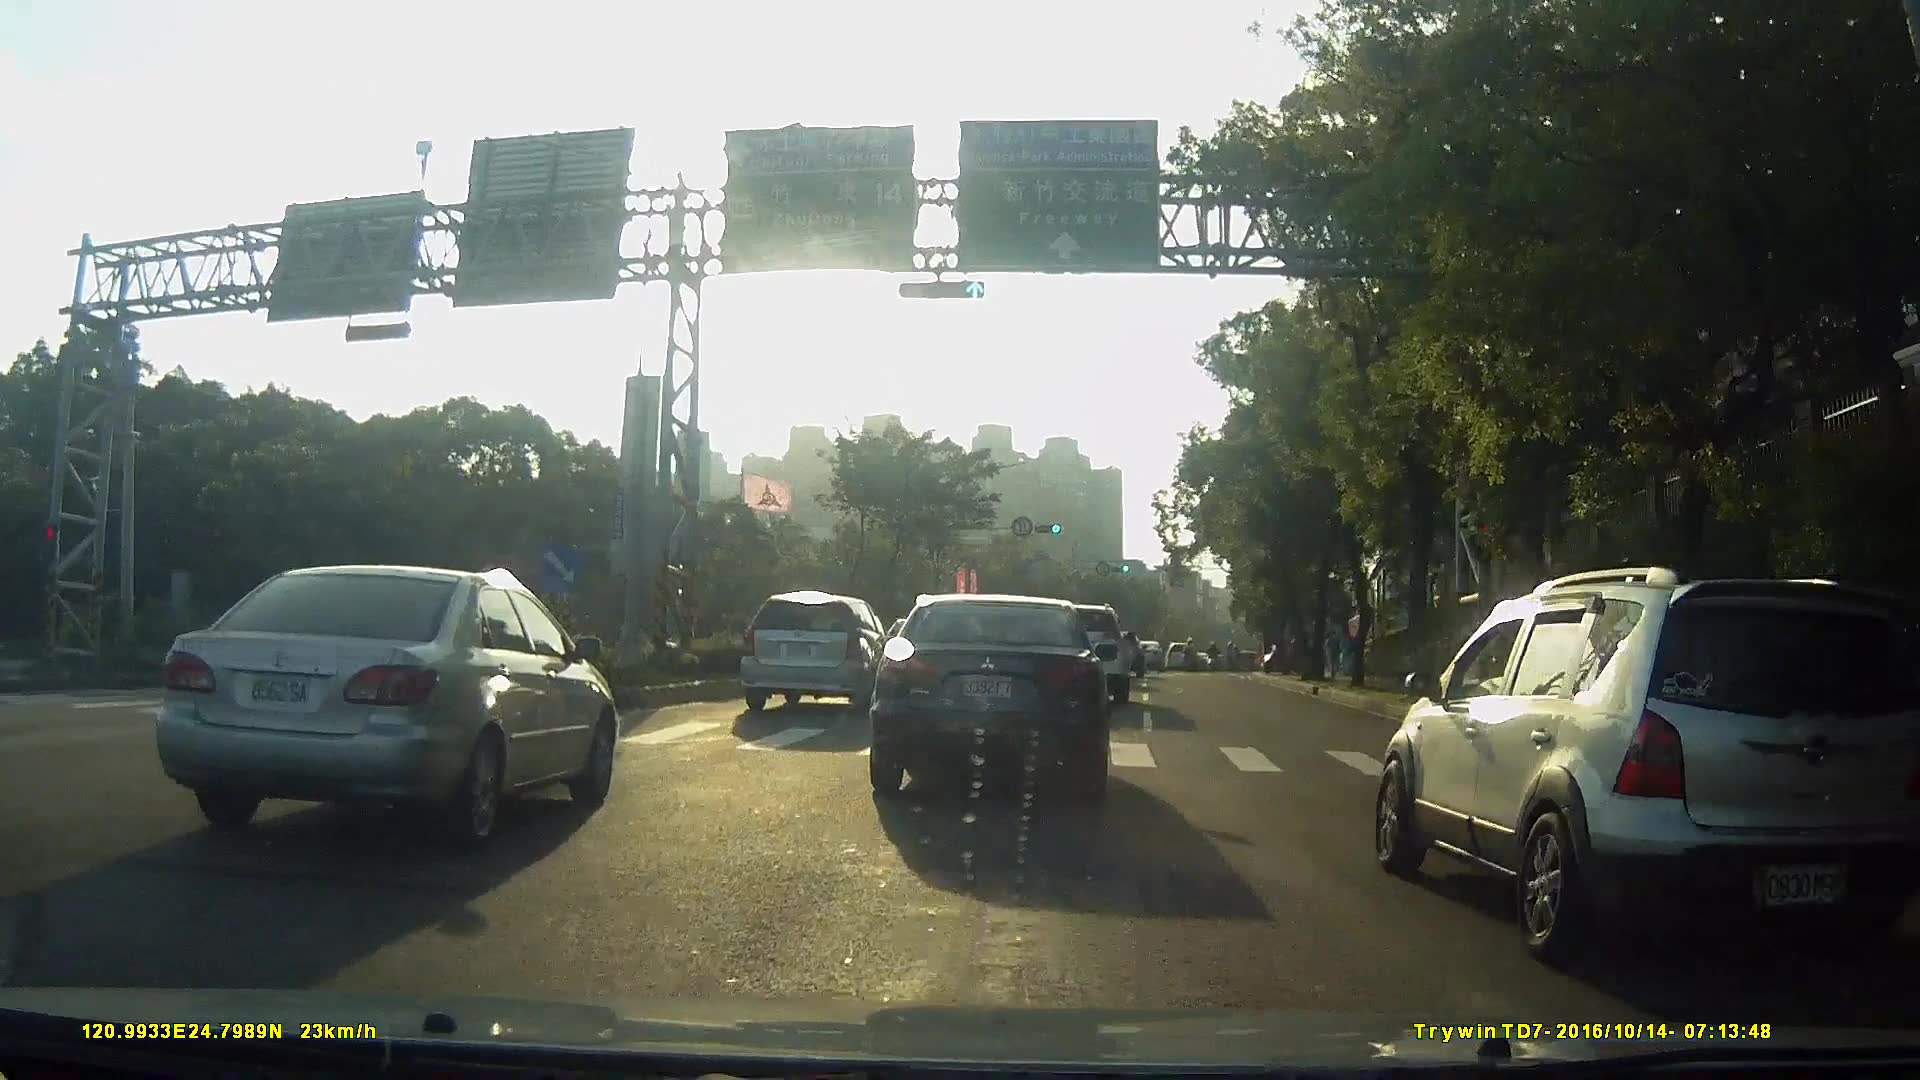vehicle: (1371, 567, 1898, 978), (132, 556, 636, 861), (858, 596, 1135, 812), (729, 589, 887, 717), (1124, 638, 1158, 670), (1154, 642, 1185, 673)
